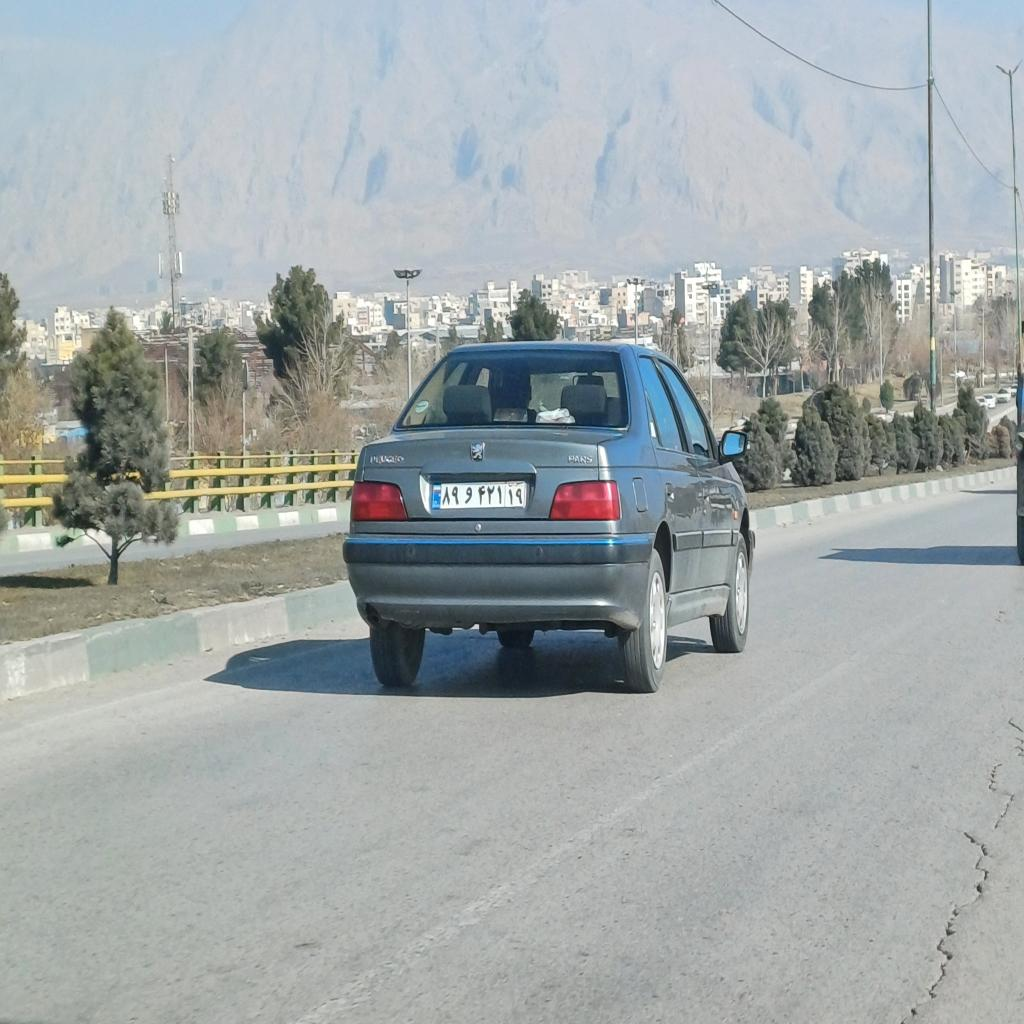Plates: (432, 480, 526, 508)
